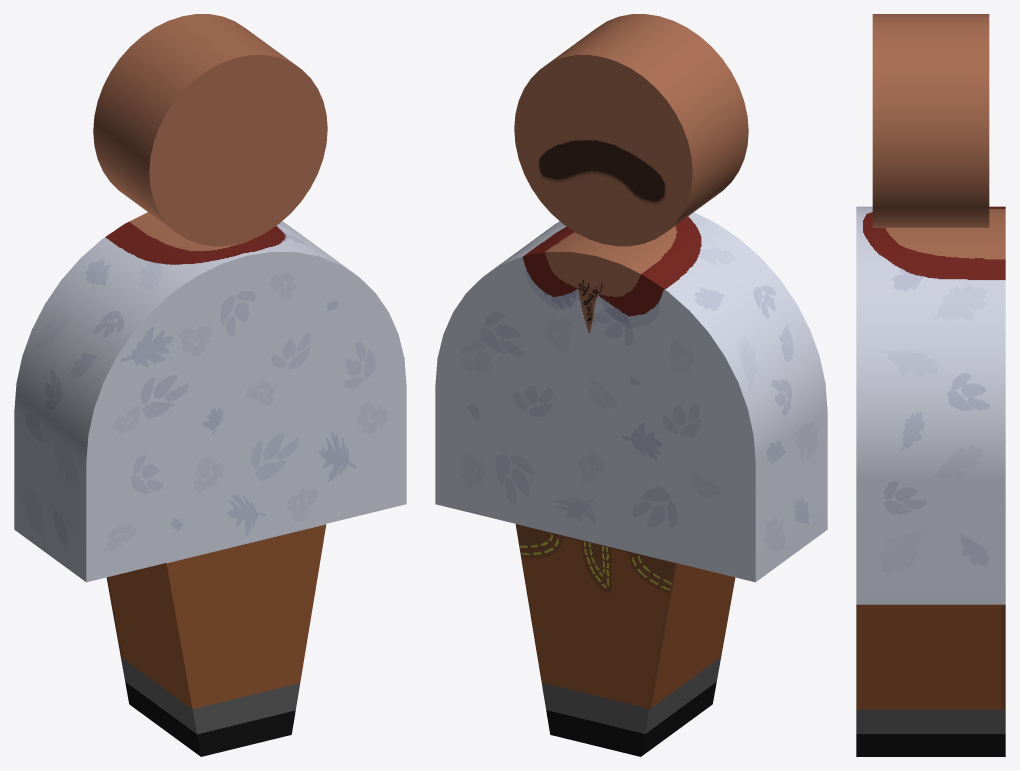
Rendered from shri.fbx.
The picture shows the model from 3 angles, left to right: view 1: azimuth 30°, elevation 25°; view 2: azimuth 150°, elevation 25°; view 3: azimuth 270°, elevation 25°; orthographic projection. The views are drawn at different scales.
Parts seen in each view (by area): view 1: shri; view 2: shri; view 3: shri.
Boxes of the visible parts, box(x1,y1,x2,y2) form: shri: box(14, 14, 406, 756); shri: box(435, 14, 827, 756); shri: box(856, 14, 1005, 756).
Size of the model in its own units: 1.13 by 2.31 by 0.4411.
1 material, 1 textured.
